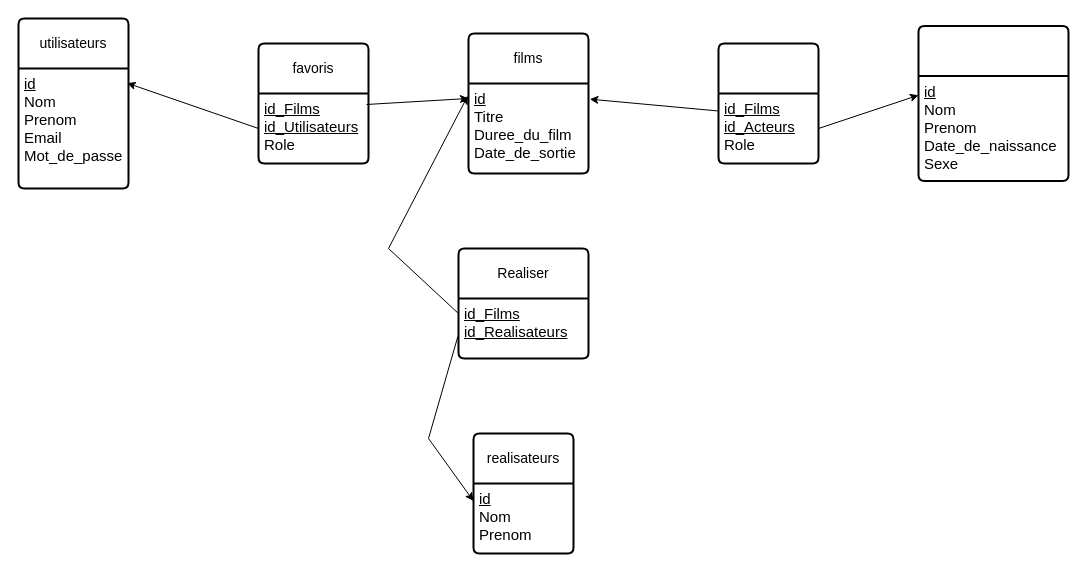
The diagram is 1086 pixels wide and 571 high, and some of its shapes have lost their labels. The box of each missing label's shape, as (x1, y1, x2, y2) in pixels:
acteurs: (917, 24, 1069, 182)
jouer: (717, 42, 819, 164)
